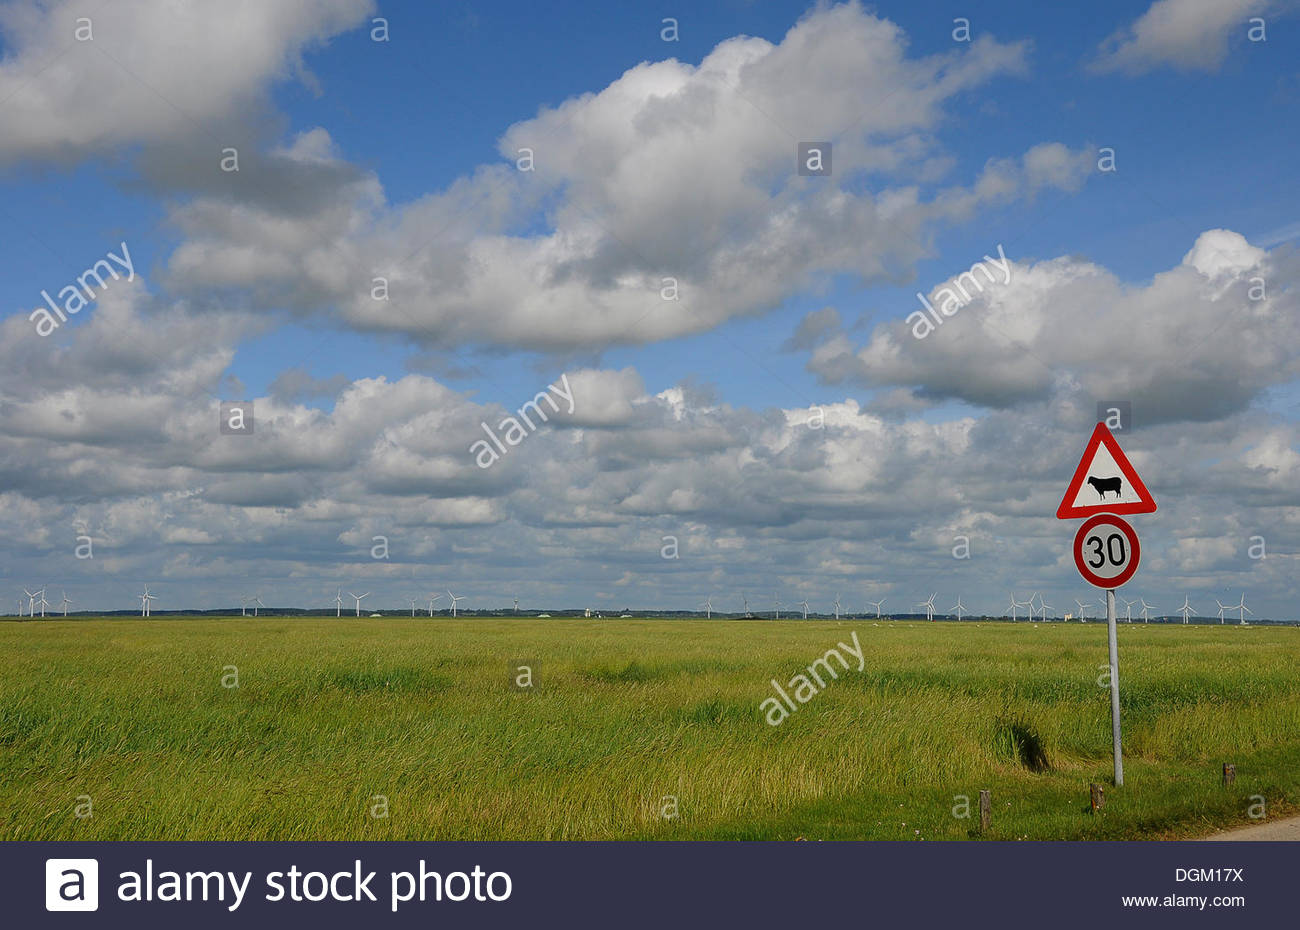speed_limit_30: (1071, 512, 1144, 588)
